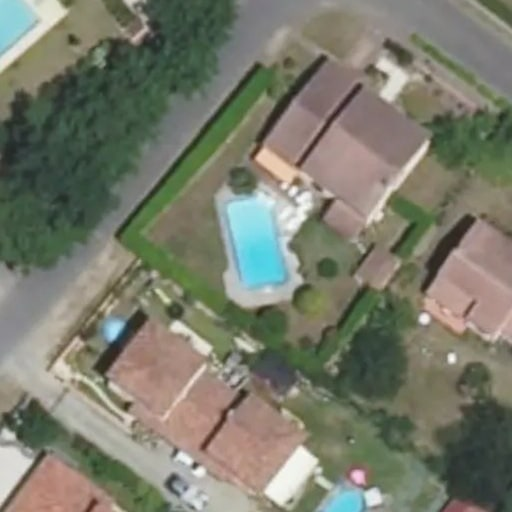pool: (223, 191, 293, 298), (1, 2, 46, 64), (101, 317, 131, 347)
